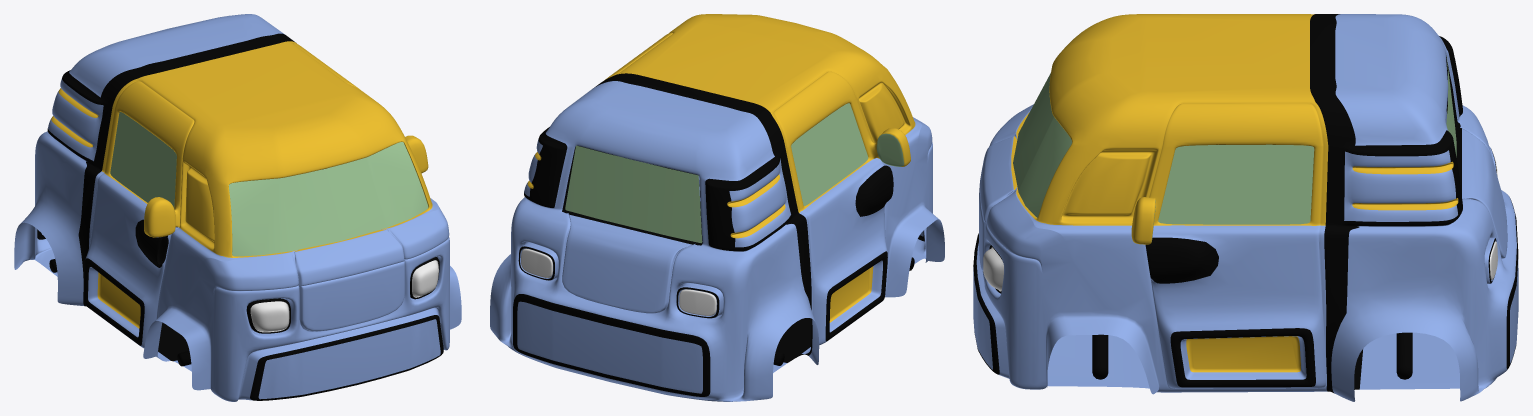
File: e-car.fbx
3 renders of one model, left to right at view 1: azimuth 30°, elevation 25°; view 2: azimuth 150°, elevation 25°; view 3: azimuth 270°, elevation 25°, orthographic. The views are drawn at different scales.
Visible parts, largest first — view 1: E-car; view 2: E-car; view 3: E-car.
Part boxes in pixels (x1,y1,x2,y2): E-car: (14,14,461,401); E-car: (490,14,944,401); E-car: (973,14,1518,401).
Size of the model in its own units: 4.31 by 3.34 by 6.09.
